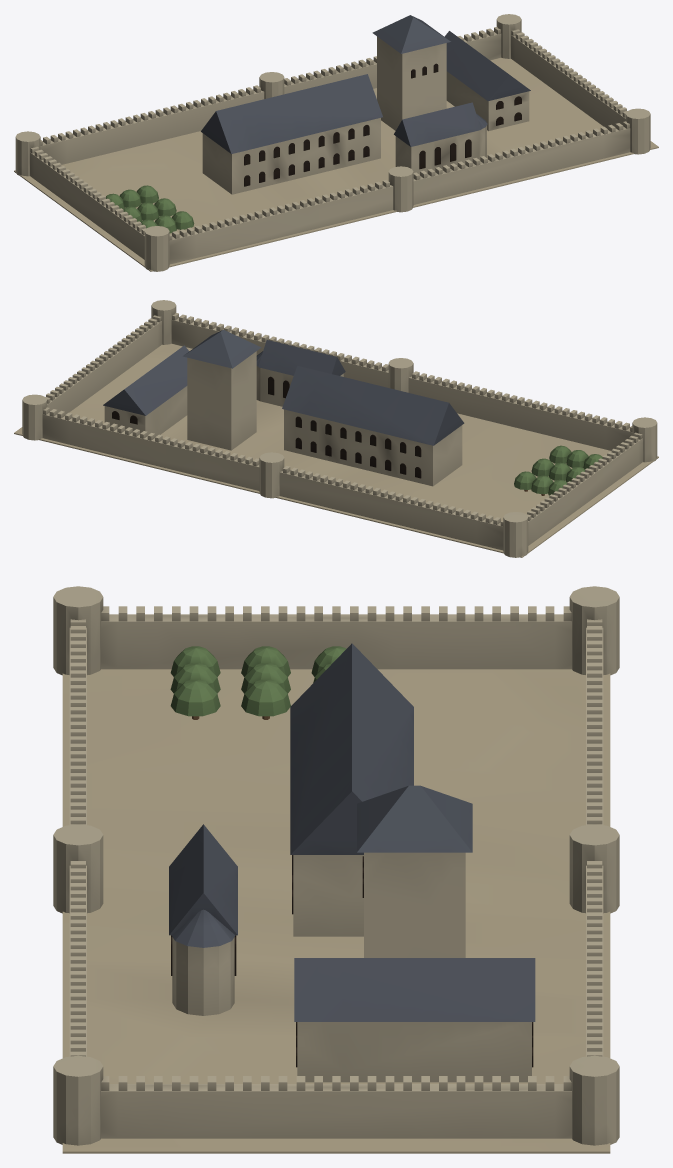
File: palais-cite-capetian.glb
3 renders of one model, top to bottom at view 1: azimuth 30°, elevation 25°; view 2: azimuth 150°, elevation 25°; view 3: azimuth 270°, elevation 25°, orthographic. The views are drawn at different scales.
Parts seen in each view (by area): view 1: p0_walls, p1_halls, p2_keep; view 2: p0_walls, p1_halls, p2_keep; view 3: p0_walls, p1_halls, p2_keep.
Boxes of the visible parts, x1,y1,x2,y2 form: p0_walls: [14, 14, 658, 271]; p1_halls: [106, 31, 530, 233]; p2_keep: [372, 15, 450, 130]; p0_walls: [14, 300, 658, 557]; p1_halls: [103, 340, 602, 495]; p2_keep: [183, 329, 261, 450]; p0_walls: [53, 586, 619, 1153]; p1_halls: [169, 643, 535, 1082]; p2_keep: [357, 785, 472, 957].
Size of the model in its own units: 150 by 30 by 72.4.
